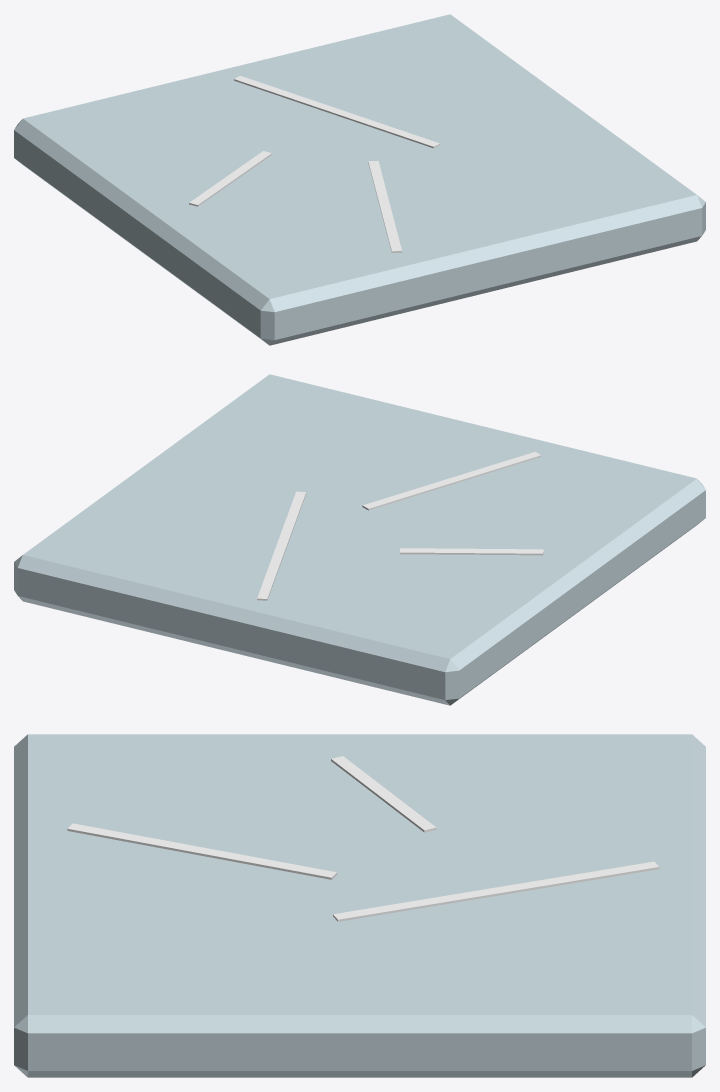
The model's file is sb_tile_ice.glb.
3 views of the same model, one above another, from view 1: azimuth 30°, elevation 25°; view 2: azimuth 150°, elevation 25°; view 3: azimuth 270°, elevation 25° (orthographic). The views are drawn at different scales.
Visible parts, largest first — view 1: tile_ice; view 2: tile_ice; view 3: tile_ice.
Part boxes in pixels (<box>): tile_ice: <box>14,14,705,345</box>; tile_ice: <box>14,374,705,705</box>; tile_ice: <box>14,734,705,1077</box>.
Size of the model in its own units: 1 by 0.1035 by 1.
